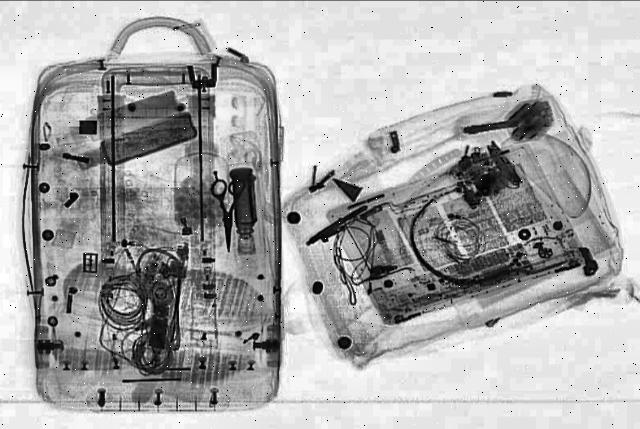Scissors: (210, 180, 250, 252)
